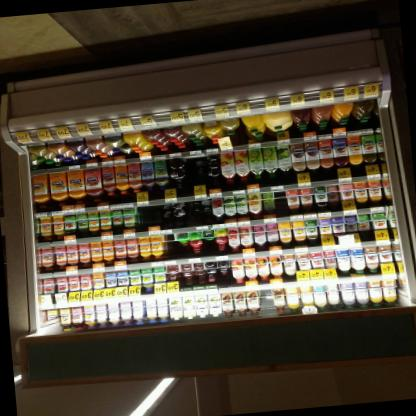empty_space: (271, 186, 290, 217)
